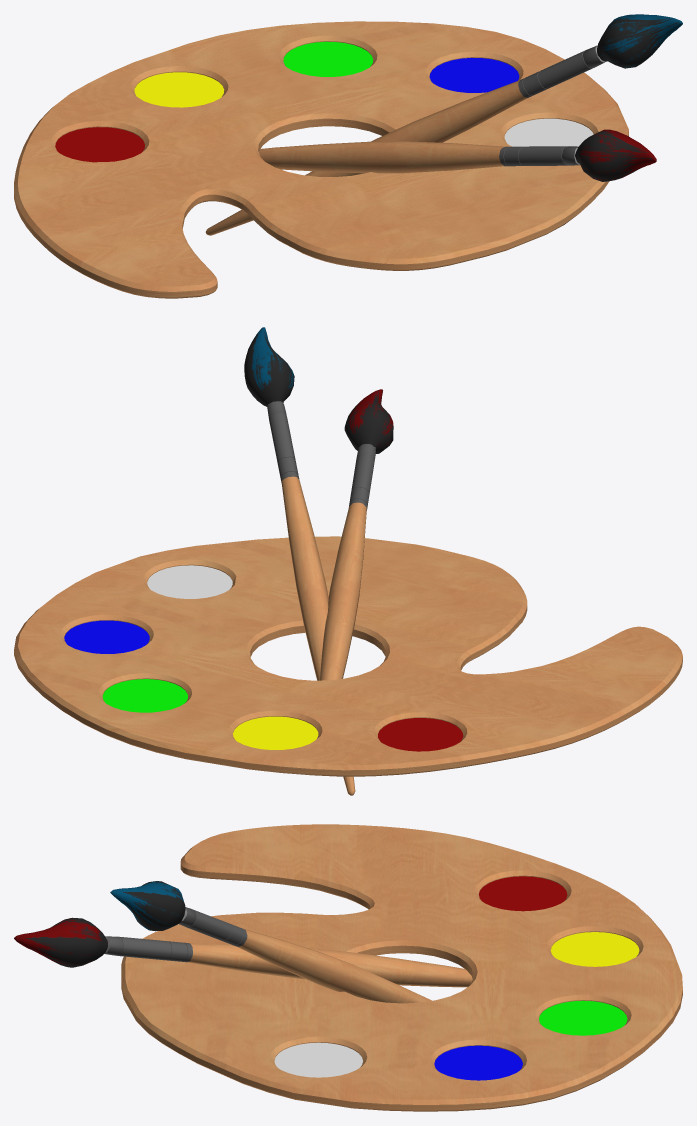
Rendered from Palette.FBX.
3 renders of one model, top to bottom at view 1: azimuth 30°, elevation 25°; view 2: azimuth 150°, elevation 25°; view 3: azimuth 270°, elevation 25°, orthographic. The views are drawn at different scales.
Parts seen in each view (by area): view 1: Palette, Brush01, Brush02, yellow, green, Red, blue, white; view 2: Palette, Brush02, Brush01, Red, white, green, yellow, blue; view 3: Palette, Brush01, Brush02, blue, Red, white, green, yellow.
Part boxes in pixels (left/top/right/bottom): Palette: left=14, top=21, right=628, bottom=298; Brush01: left=258, top=129, right=656, bottom=181; Brush02: left=205, top=14, right=682, bottom=235; yellow: left=134, top=72, right=224, bottom=107; green: left=283, top=41, right=373, bottom=76; Red: left=55, top=127, right=144, bottom=162; blue: left=429, top=57, right=519, bottom=92; white: left=504, top=118, right=593, bottom=146; Palette: left=14, top=536, right=682, bottom=776; Brush02: left=244, top=327, right=355, bottom=795; Brush01: left=319, top=389, right=393, bottom=680; Red: left=378, top=718, right=463, bottom=751; white: left=147, top=565, right=232, bottom=598; green: left=102, top=679, right=187, bottom=712; yellow: left=233, top=716, right=318, bottom=749; blue: left=64, top=620, right=149, bottom=653; Palette: left=121, top=824, right=682, bottom=1111; Brush01: left=14, top=917, right=472, bottom=987; Brush02: left=110, top=881, right=431, bottom=1003; blue: left=434, top=1045, right=522, bottom=1080; Red: left=479, top=876, right=567, bottom=911; white: left=274, top=1042, right=362, bottom=1077; green: left=539, top=1000, right=627, bottom=1035; yellow: left=550, top=932, right=639, bottom=966.
Size of the model in its own units: 80.25 by 37.68 by 81.37.
Materials: 10 (3 with a texture image).
